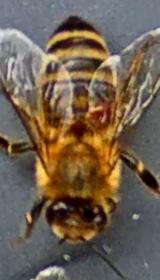varroa_mite: (80, 92, 108, 126)
